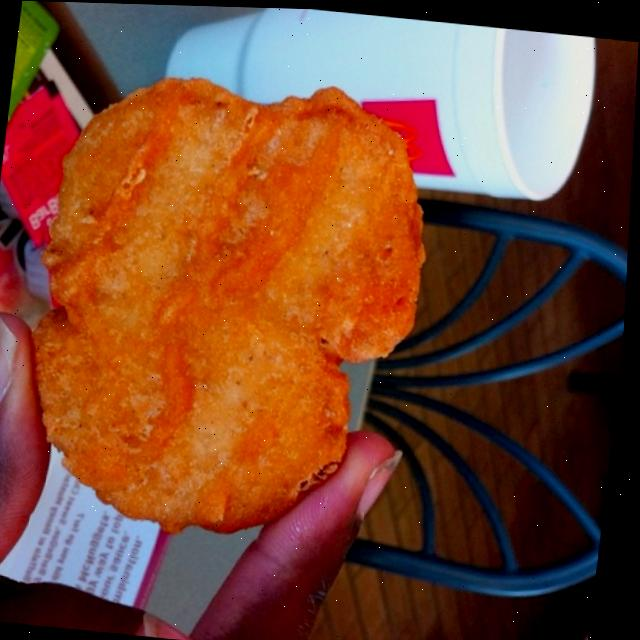鸡肉料理 含炸鸡: (0, 20, 482, 602)
